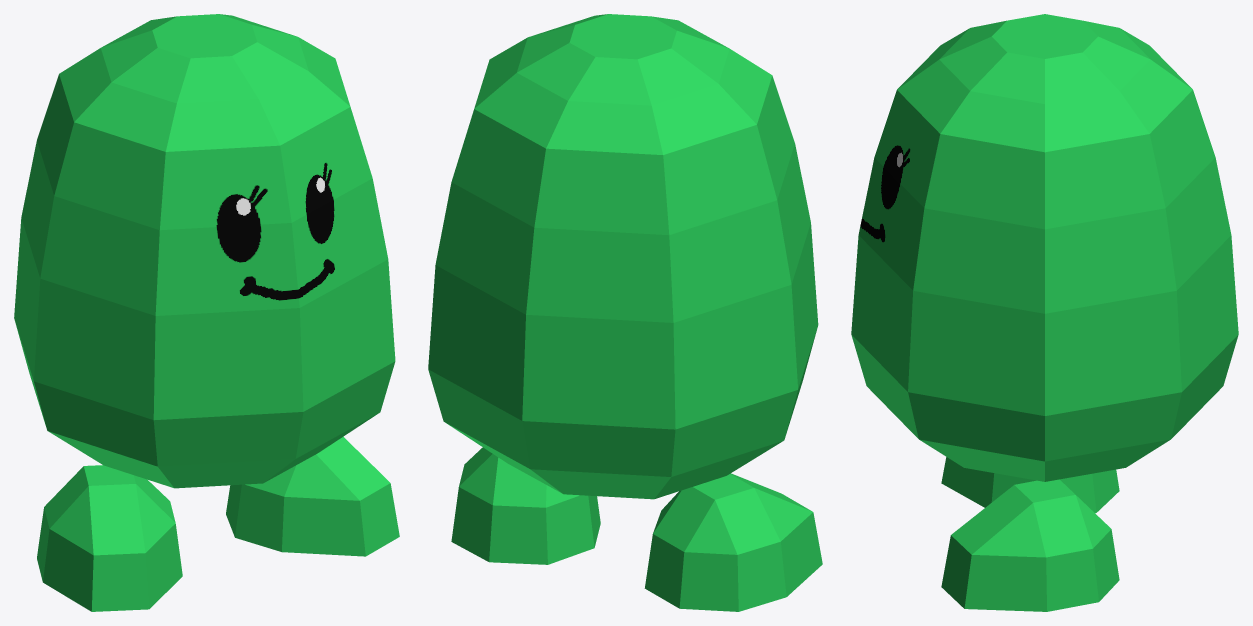
Rendered from Enemy_G1.fbx.
3 renders of one model, left to right at view 1: azimuth 30°, elevation 25°; view 2: azimuth 150°, elevation 25°; view 3: azimuth 270°, elevation 25°, orthographic. The views are drawn at different scales.
Parts seen in each view (by area): view 1: Body, LegR, LegL; view 2: Body, LegR, LegL; view 3: Body, LegL, LegR.
Part boxes in pixels (left/top/right/bottom): Body: left=14, top=14, right=395, bottom=488; LegR: left=37, top=465, right=182, bottom=611; LegL: left=226, top=436, right=399, bottom=556; Body: left=428, top=14, right=818, bottom=499; LegR: left=644, top=473, right=822, bottom=611; LegL: left=451, top=447, right=600, bottom=564; Body: left=851, top=14, right=1238, bottom=481; LegL: left=941, top=479, right=1119, bottom=611; LegR: left=941, top=457, right=1119, bottom=513.
Bounding box in the file's own units: 1.01 × 1.44 × 1.01.
1 material, 1 textured.
